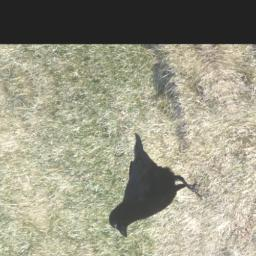Crow: (76, 127, 212, 243)
